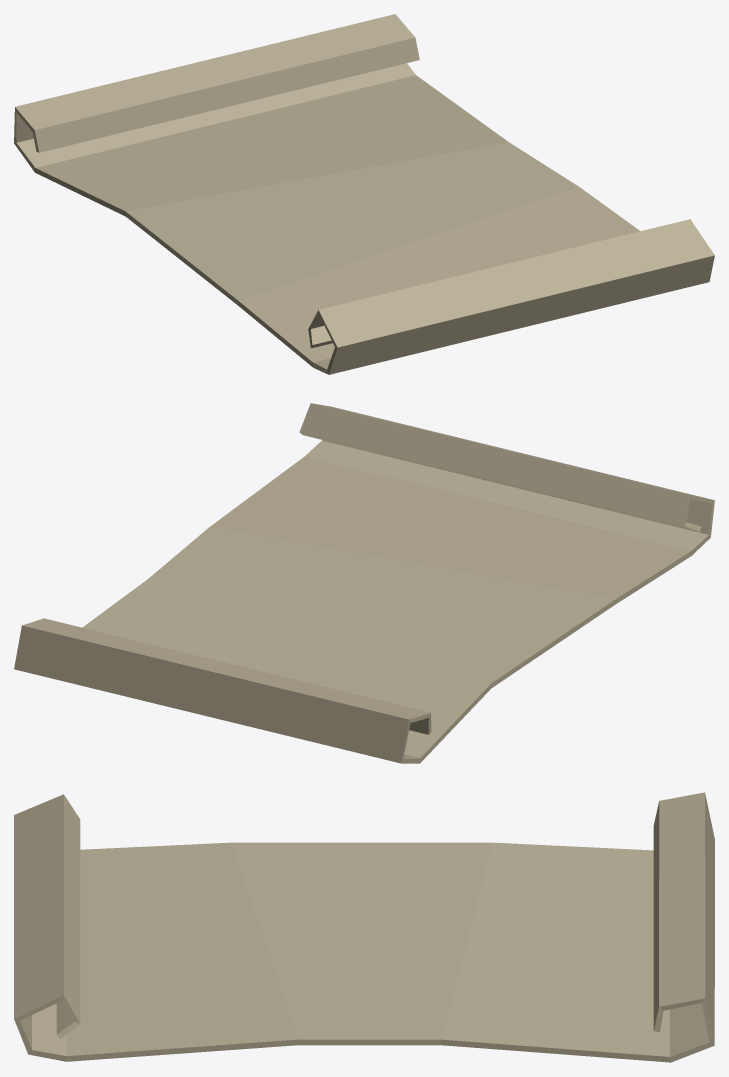
Rendered from Scroll_Open.glb.
3 views of the same model, one above another, from view 1: azimuth 30°, elevation 25°; view 2: azimuth 150°, elevation 25°; view 3: azimuth 270°, elevation 25° (orthographic). The views are drawn at different scales.
Visible parts, largest first — view 1: Scroll_Open; view 2: Scroll_Open; view 3: Scroll_Open.
Boxes of the visible parts, x1,y1,x2,y2 form: Scroll_Open: (14,14,714,374); Scroll_Open: (14,403,714,763); Scroll_Open: (14,792,714,1062).
Size of the model in its own units: 0.4051 by 0.0597 by 0.5596.
Materials: 1 (1 with a texture image).
